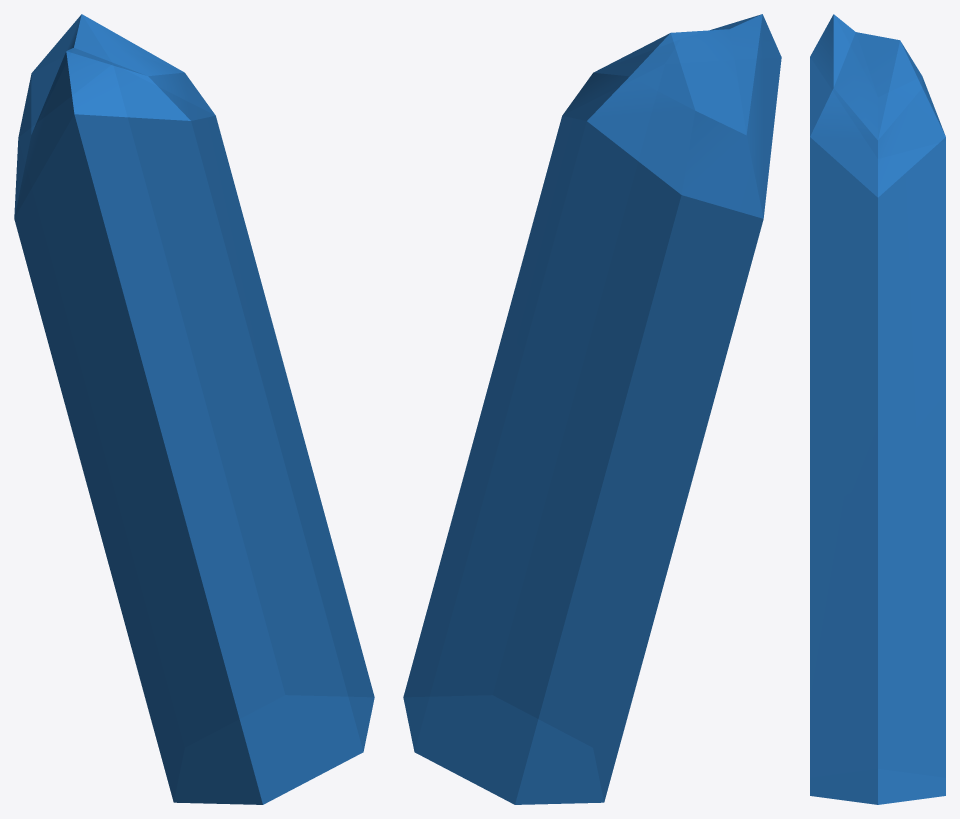
Rendered from crystal4_big.FBX.
3 renders of one model, left to right at view 1: azimuth 30°, elevation 25°; view 2: azimuth 150°, elevation 25°; view 3: azimuth 270°, elevation 25°, orthographic. The views are drawn at different scales.
Parts seen in each view (by area): view 1: crystal4Big; view 2: crystal4Big; view 3: crystal4Big.
Boxes of the visible parts, x1=… form: crystal4Big: x1=14, y1=14, x2=374, y2=804; crystal4Big: x1=403, y1=14, x2=781, y2=804; crystal4Big: x1=810, y1=14, x2=945, y2=804.
Bounding box in the file's own units: 147 × 314 × 55.32.
